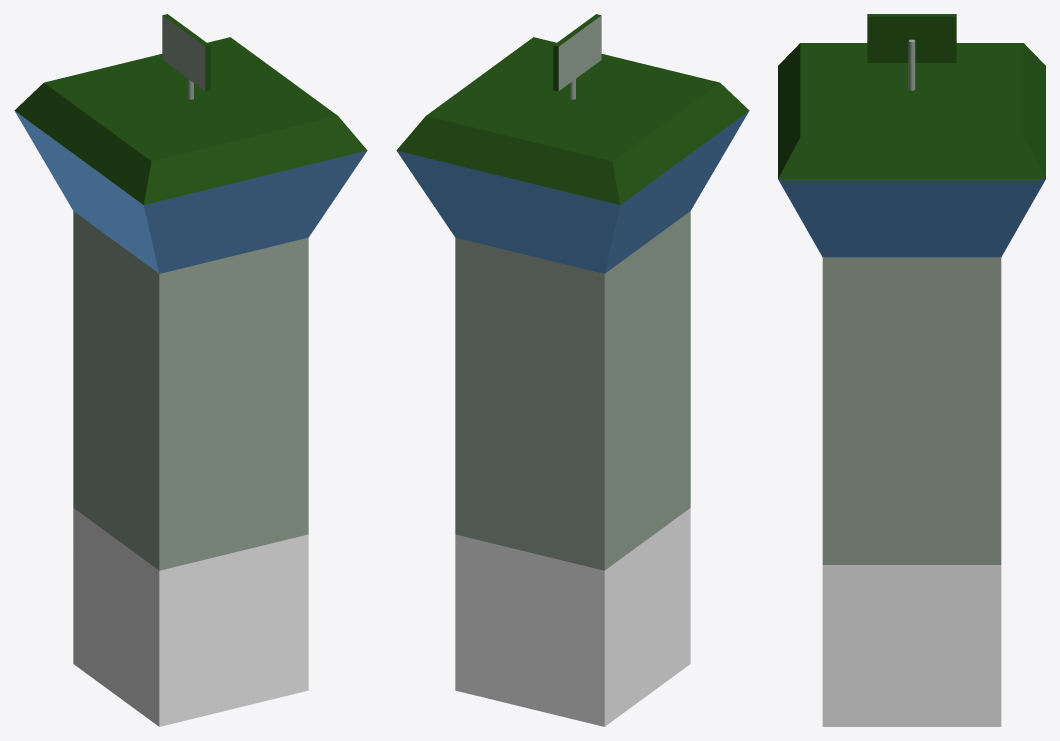
Rendered from control_tower_1.B60tRwRO.glb.
The picture shows the model from 3 angles, left to right: view 1: azimuth 30°, elevation 25°; view 2: azimuth 150°, elevation 25°; view 3: azimuth 270°, elevation 25°; orthographic projection. The views are drawn at different scales.
Visible parts, largest first — view 1: base, Würfel; view 2: base, Würfel; view 3: base, Würfel.
Boxes of the visible parts, x1,y1,x2,y2 form: base: (14,37,367,726); Würfel: (162,14,210,91); base: (396,37,749,726); Würfel: (553,14,601,91); base: (778,43,1045,726); Würfel: (867,14,956,62).
Bounding box in the file's own units: 0.5 × 1.38 × 0.5.
